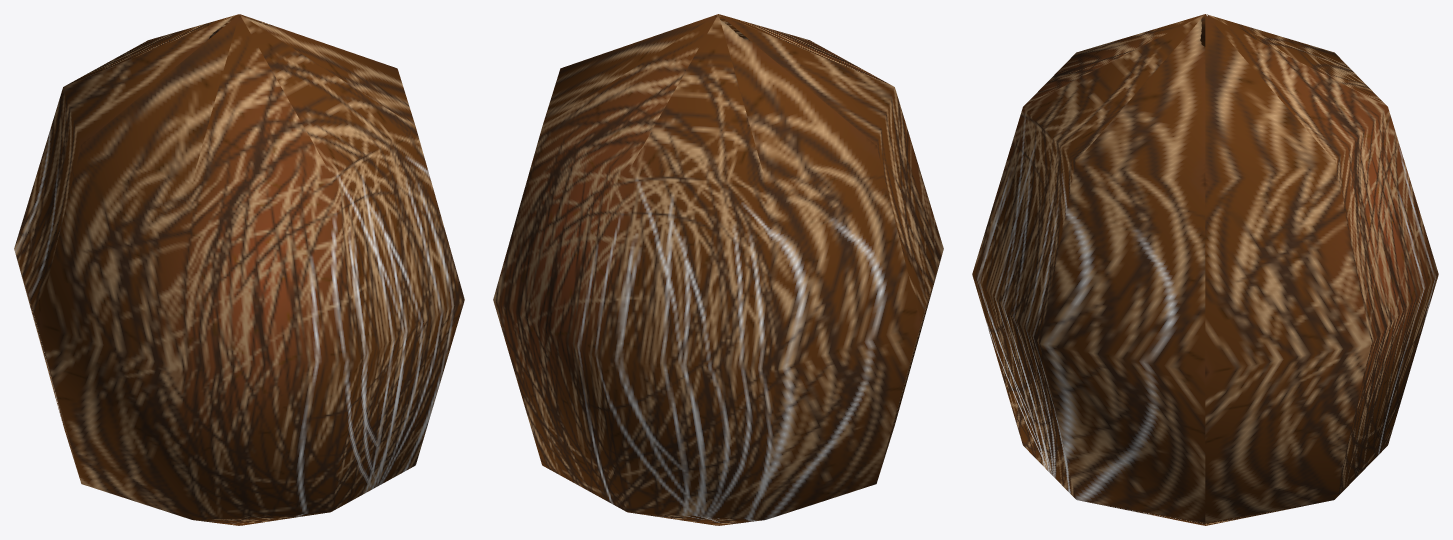
File: Cocunet.FBX
The picture shows the model from 3 angles, left to right: view 1: azimuth 30°, elevation 25°; view 2: azimuth 150°, elevation 25°; view 3: azimuth 270°, elevation 25°; orthographic projection.
Parts seen in each view (by area): view 1: Cocunet; view 2: Cocunet; view 3: Cocunet.
Boxes of the visible parts, bbox=[...] form: Cocunet: bbox=[14, 14, 464, 525]; Cocunet: bbox=[493, 14, 943, 525]; Cocunet: bbox=[972, 14, 1438, 525].
Bounding box in the file's own units: 11.36 × 13.76 × 11.36.
